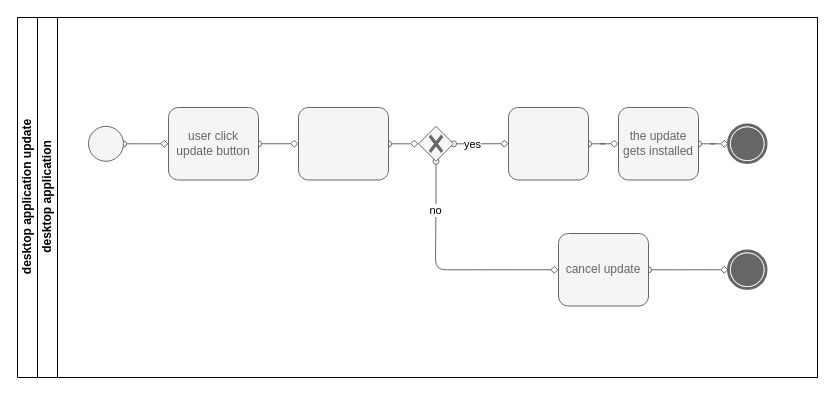
Some shapes in this 835 by 395 pixel diagram are drawn without their labels. The shapes that lost their labels are listed below. From the top down, each one's centre as x and y in pixels, then its label:
At [343,143]: "check GitHub for new updates".
At [548,143]: "application gets update files".
